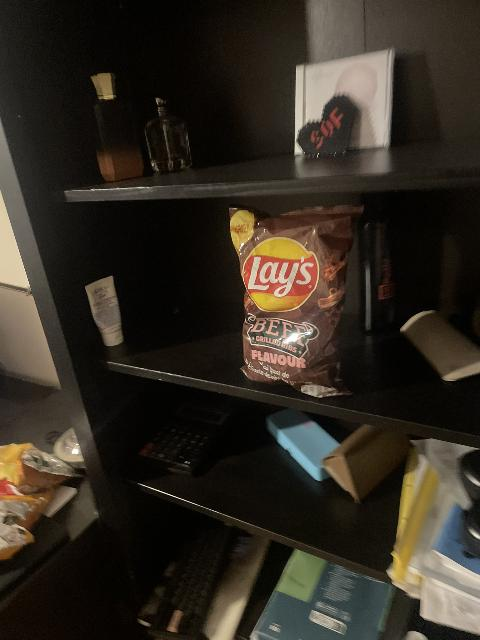Lays Beef Grilled Ribs 125g: (232, 205, 358, 394)
